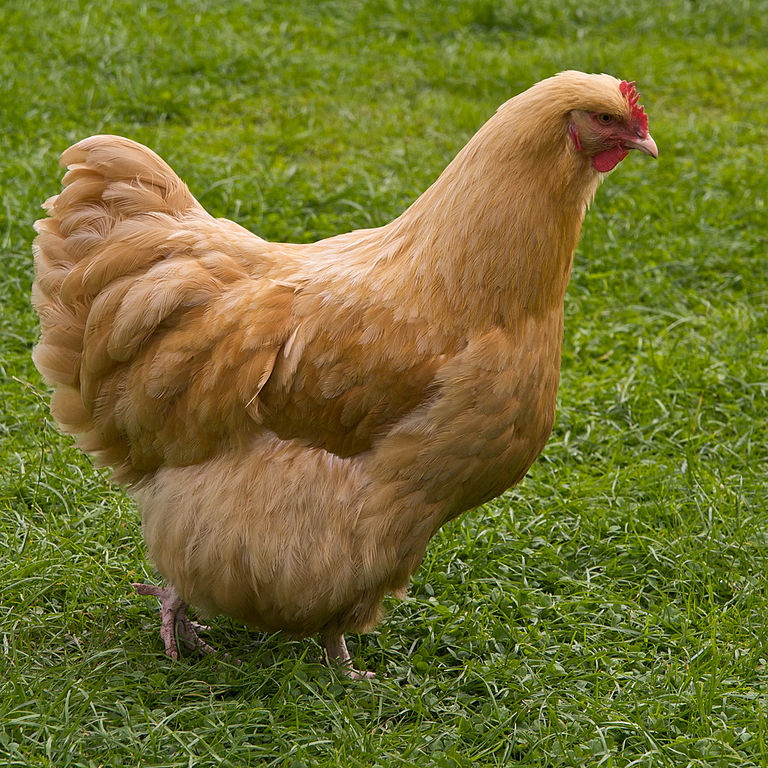buff: (204, 71, 675, 508)
